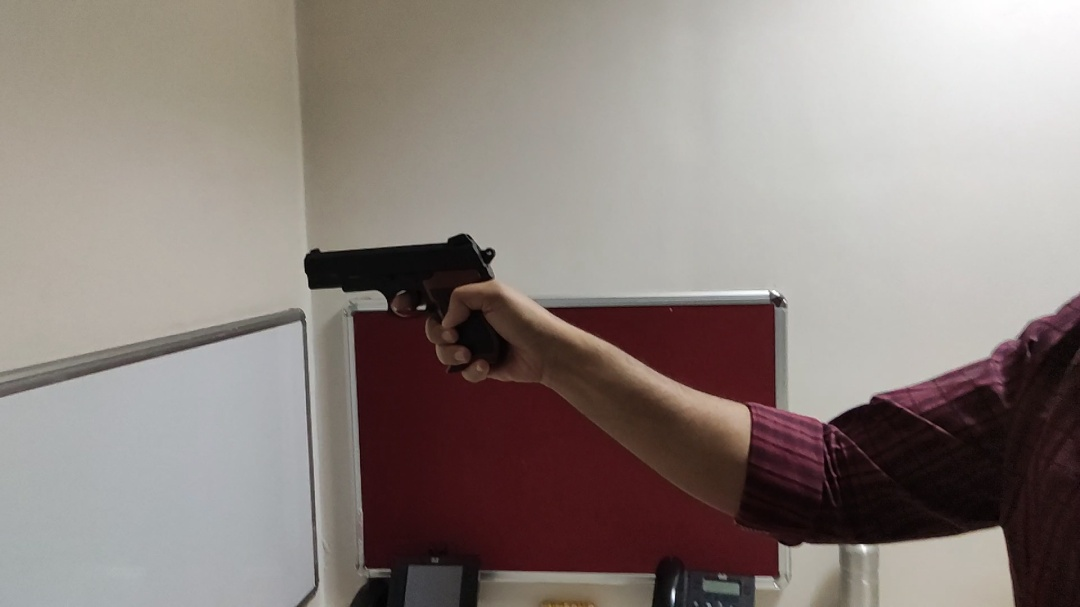gun: (303, 234, 515, 373)
